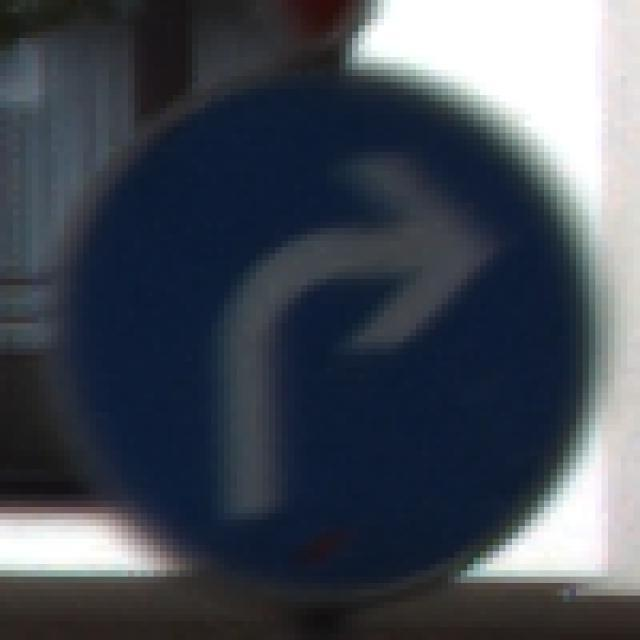compulsary turn right ahead: (57, 67, 596, 597)
